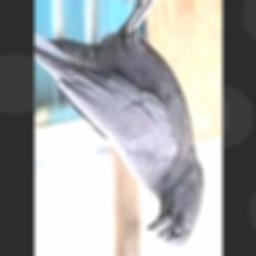Crow: (34, 0, 205, 246)
